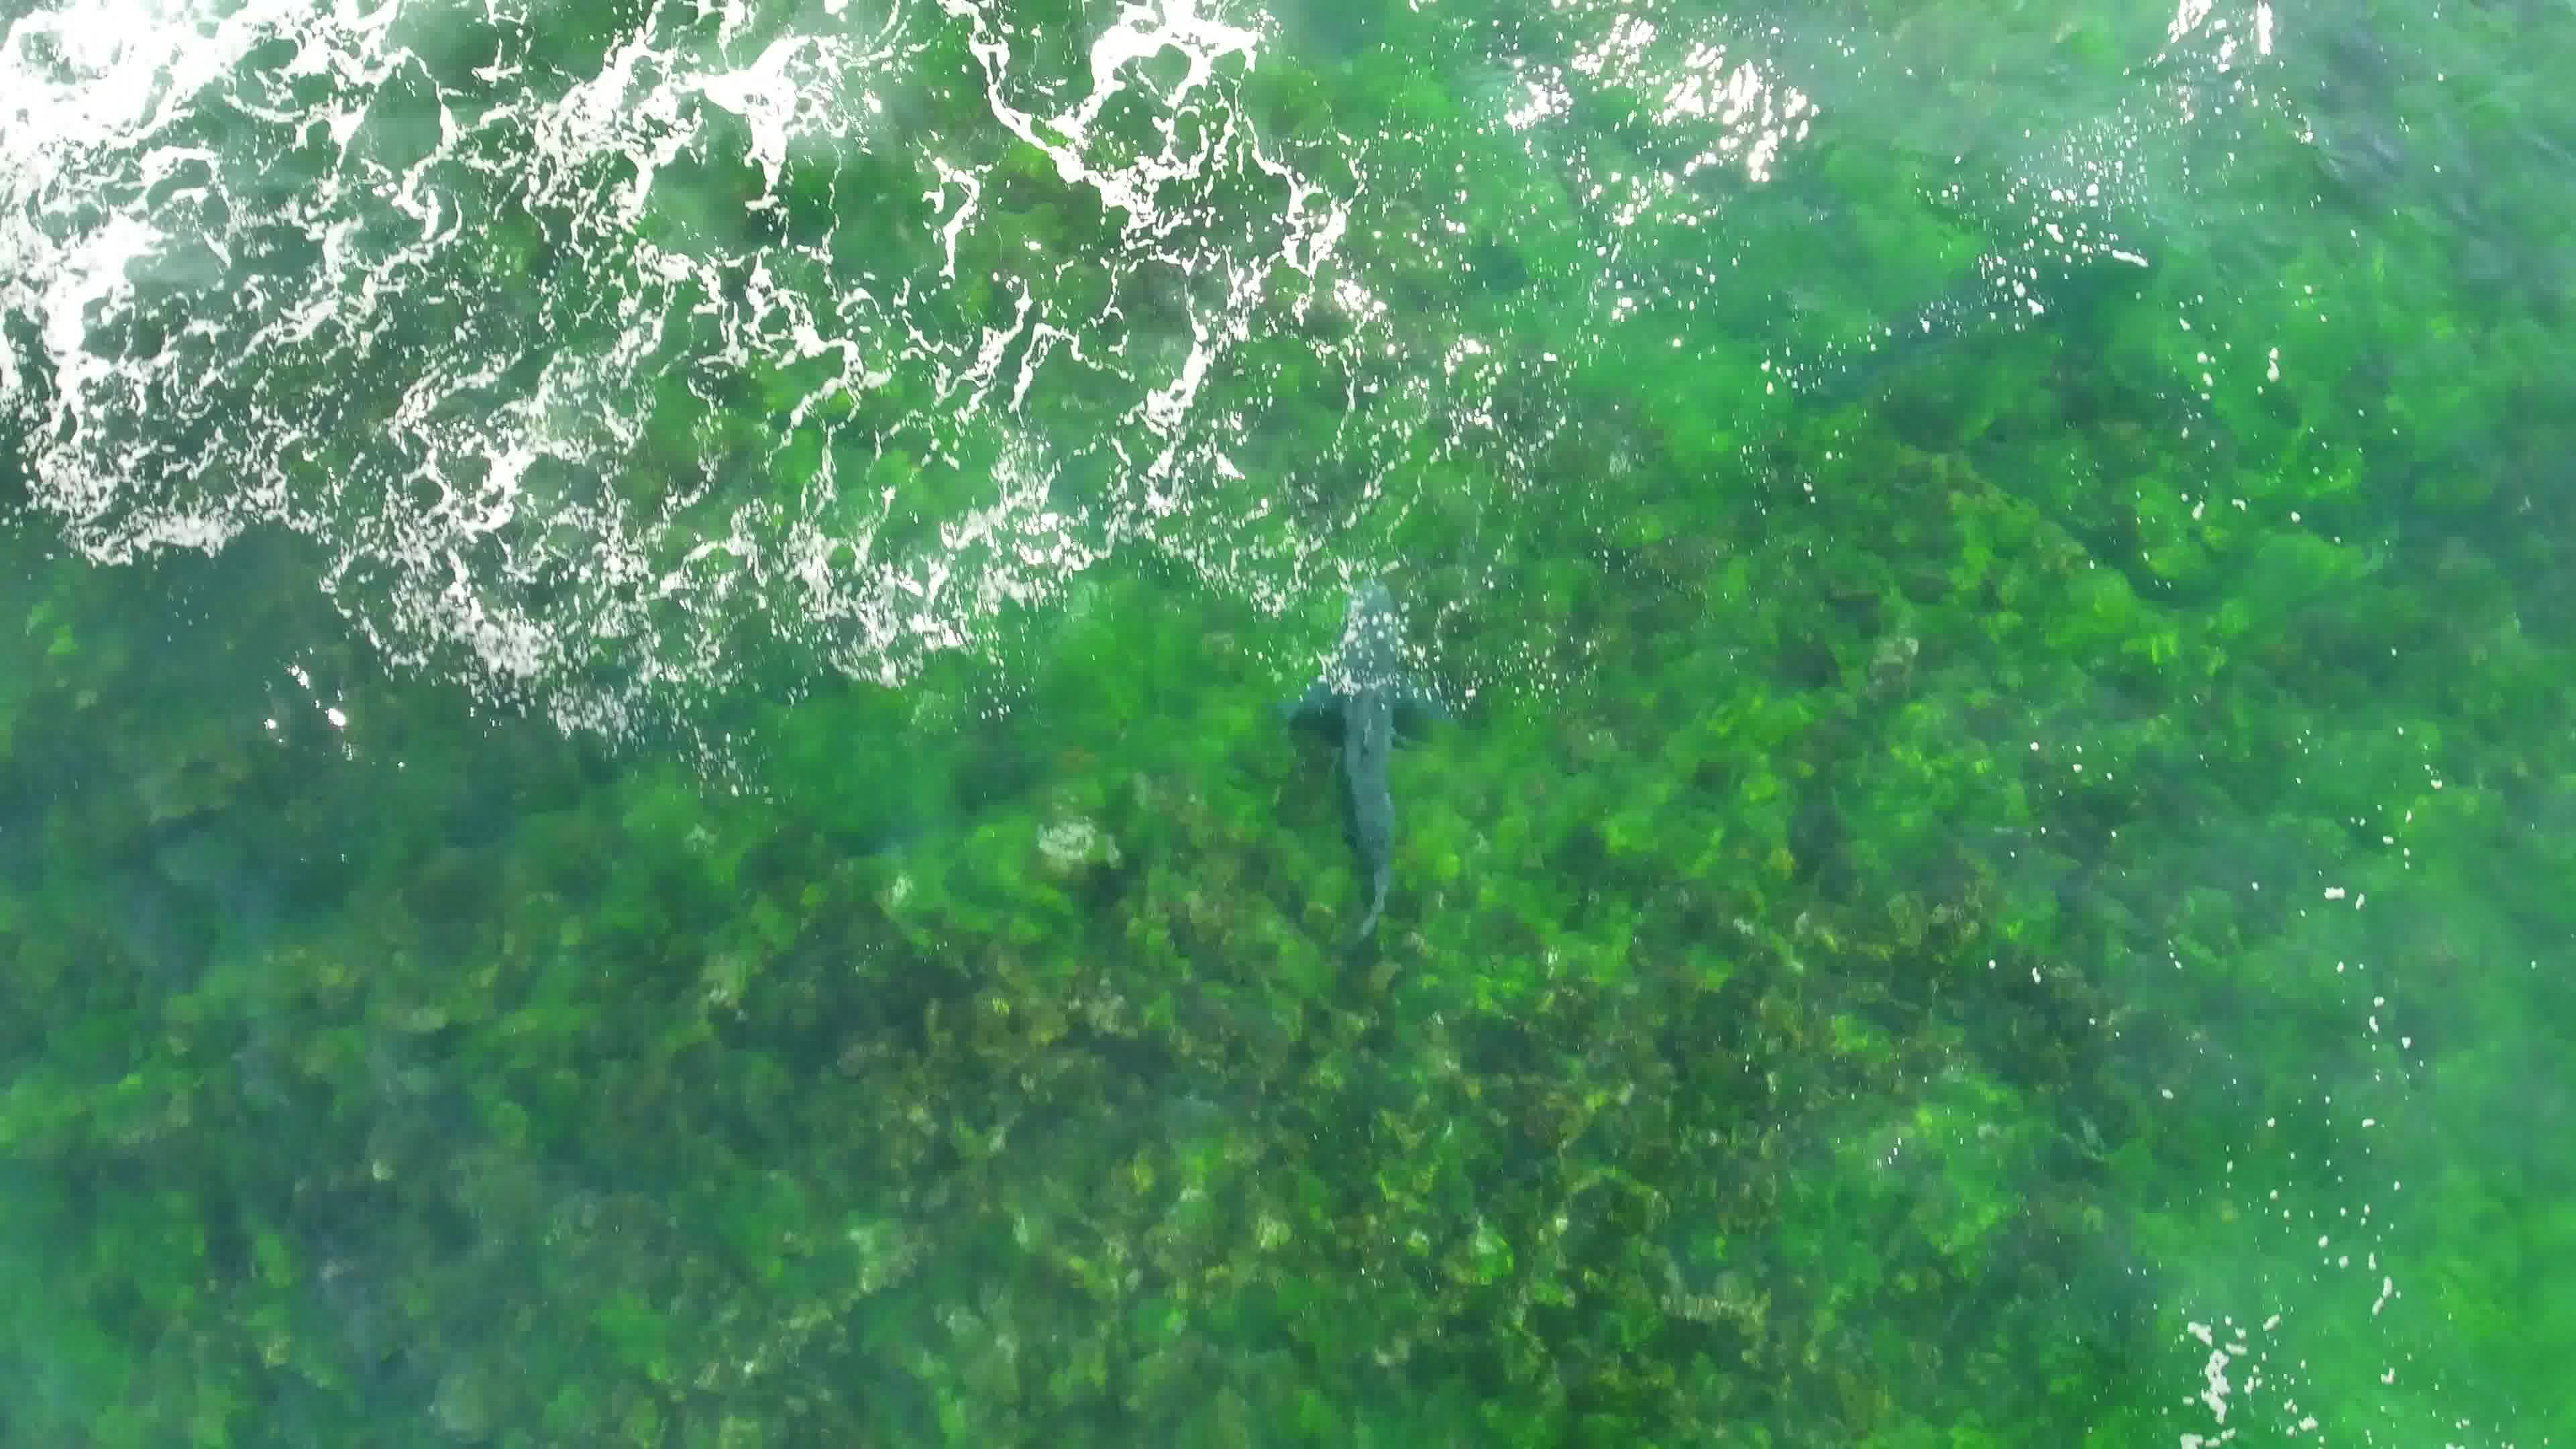shark: (1281, 568, 1460, 962)
